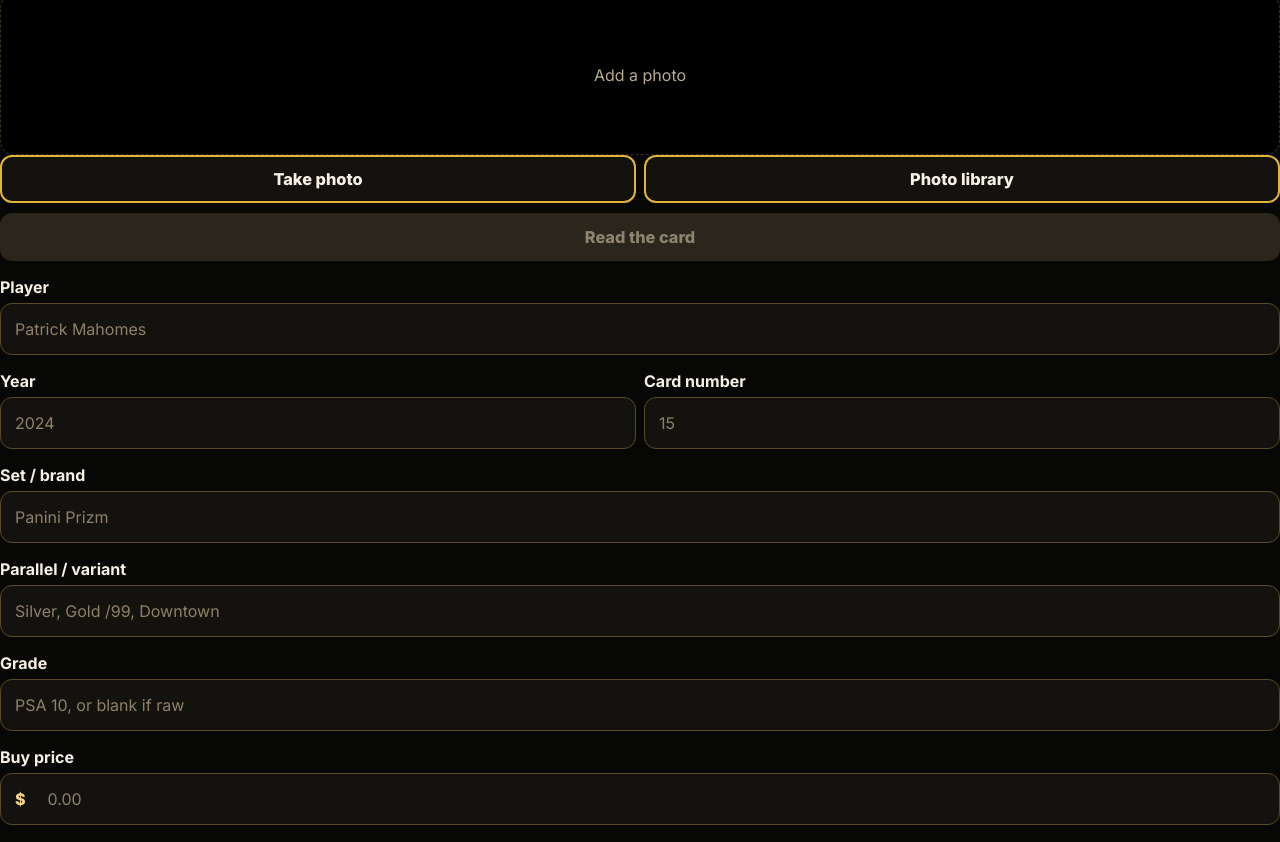
Scenario: CardForm › reads a sample card, edits it, and shows potential profit
Later steps or results of the test are not shown.
In the field labelled "Buy price": (656, 799) x1=34 y1=774 x2=1279 y2=824, type "10"
(page scrolled)
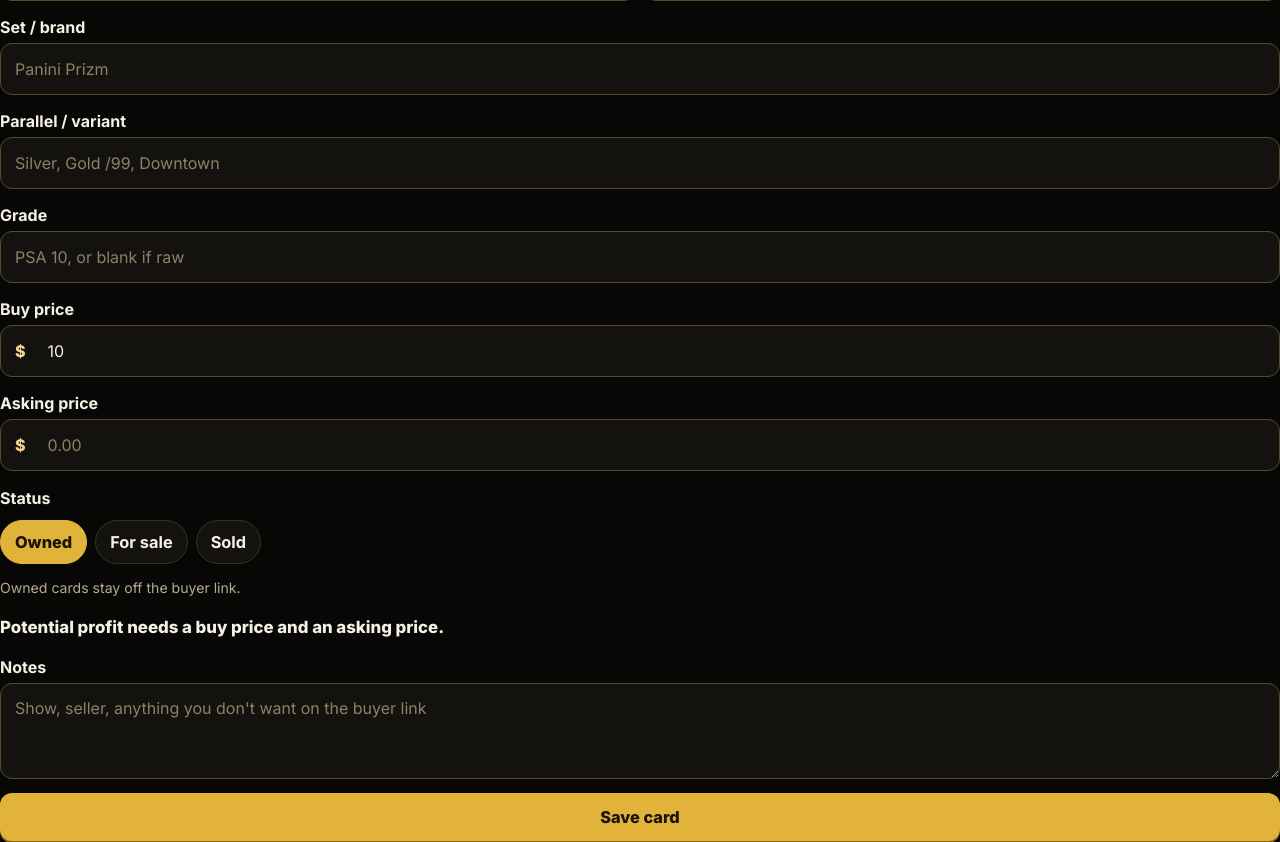
In the field labelled "Asking price": (656, 445) x1=34 y1=420 x2=1279 y2=470, type "25"
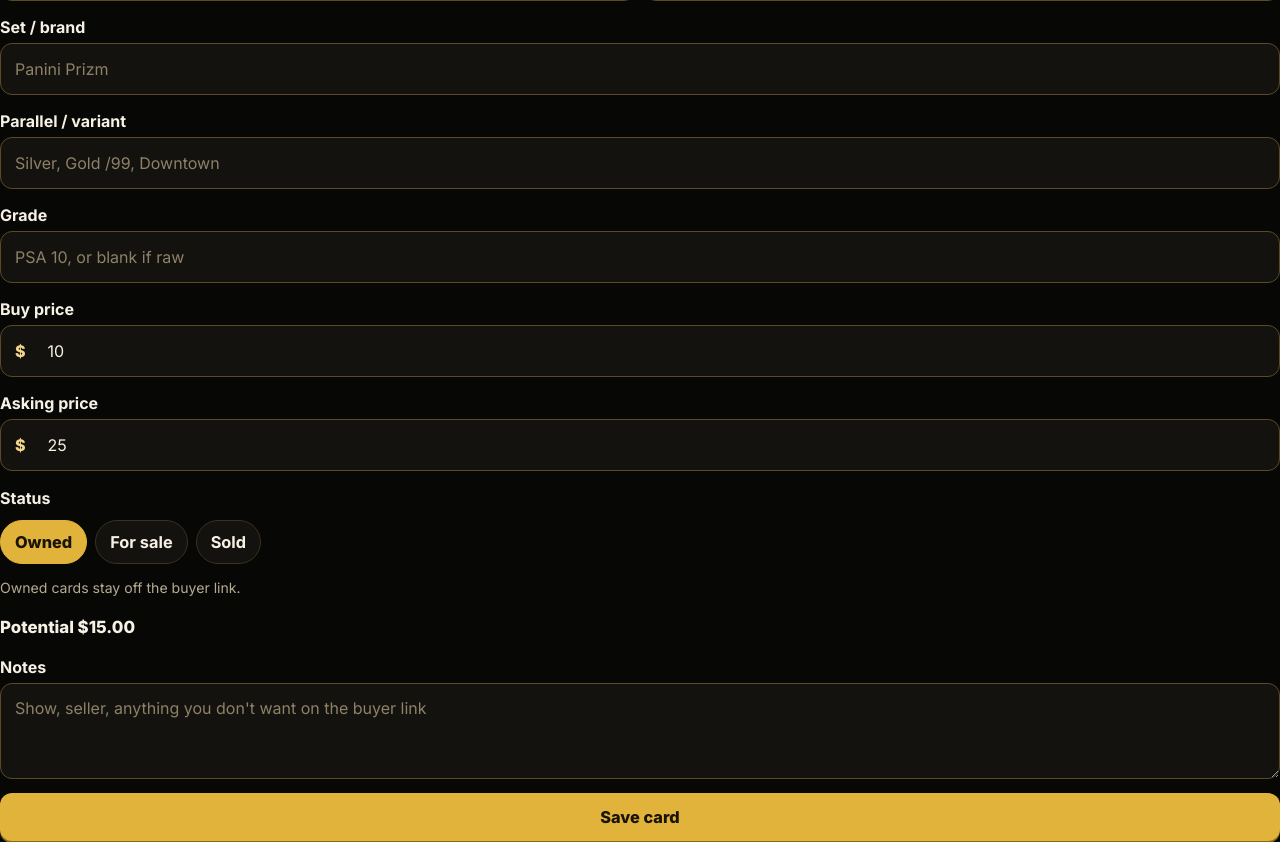
Expected: the text with test id "profit-line" reads "Potential $15.00", x1=0 y1=618 x2=135 y2=638
